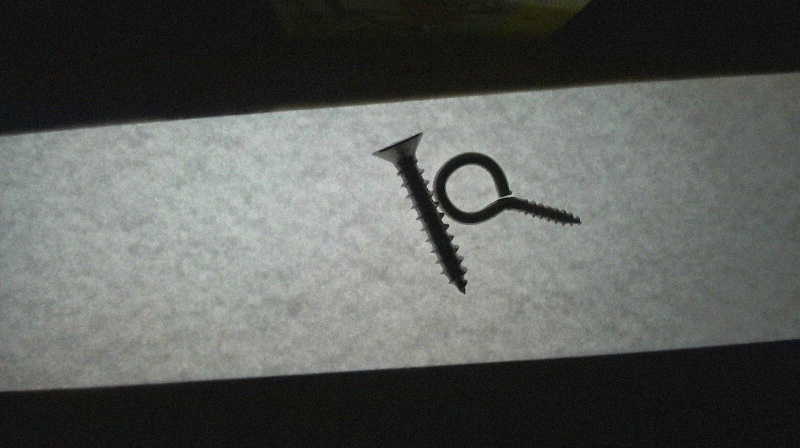O001: (429, 150, 583, 233)
S001: (369, 126, 470, 300)
